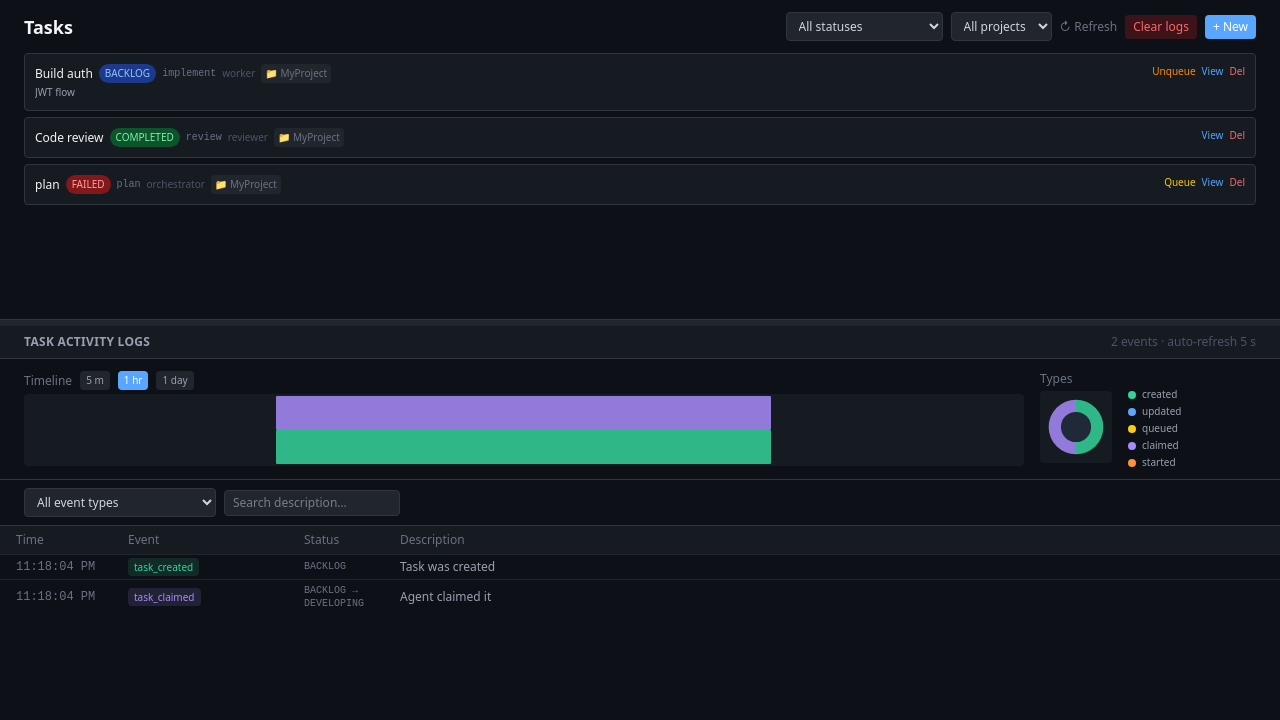
Test: Tasks — create form › shows form when "+ New" is clicked
Click the button "+ New".
click(1230, 26)  # box [1205, 14, 1256, 38]
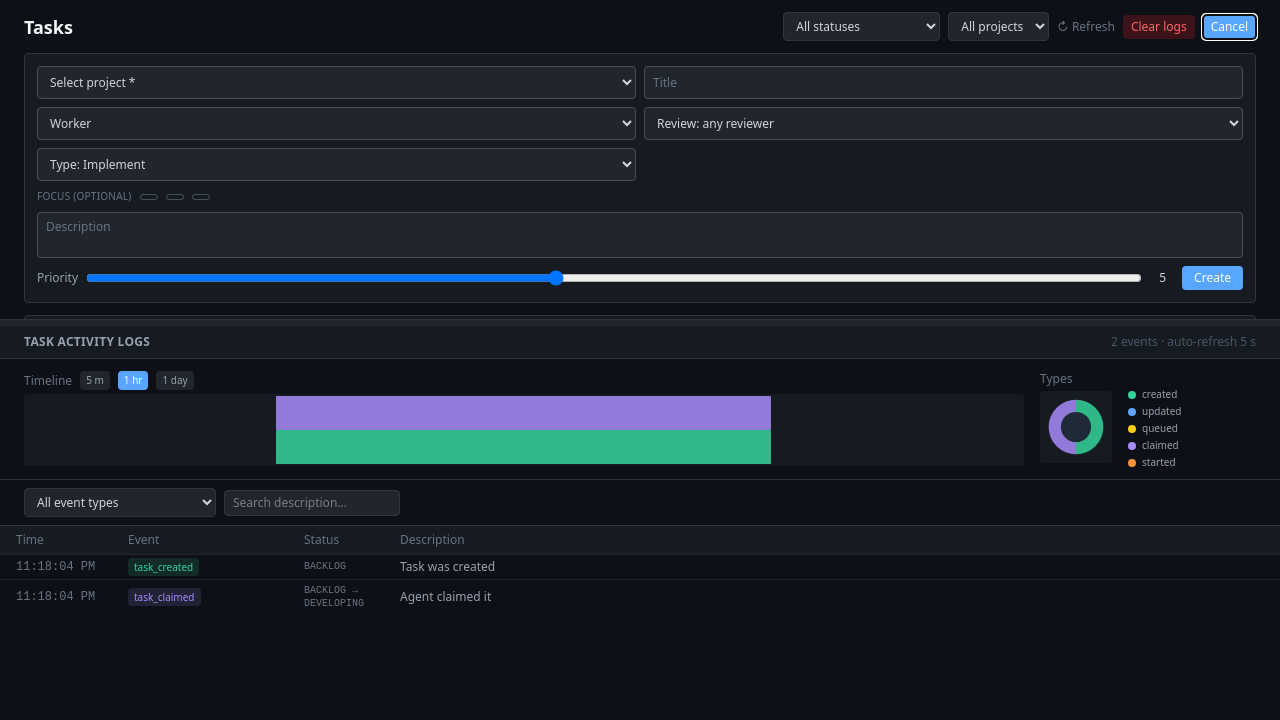
Check: the dropdown named "Role" is shown, box [37, 107, 636, 140]
Check: the dropdown named "Review role" is shown, box [644, 107, 1243, 140]
